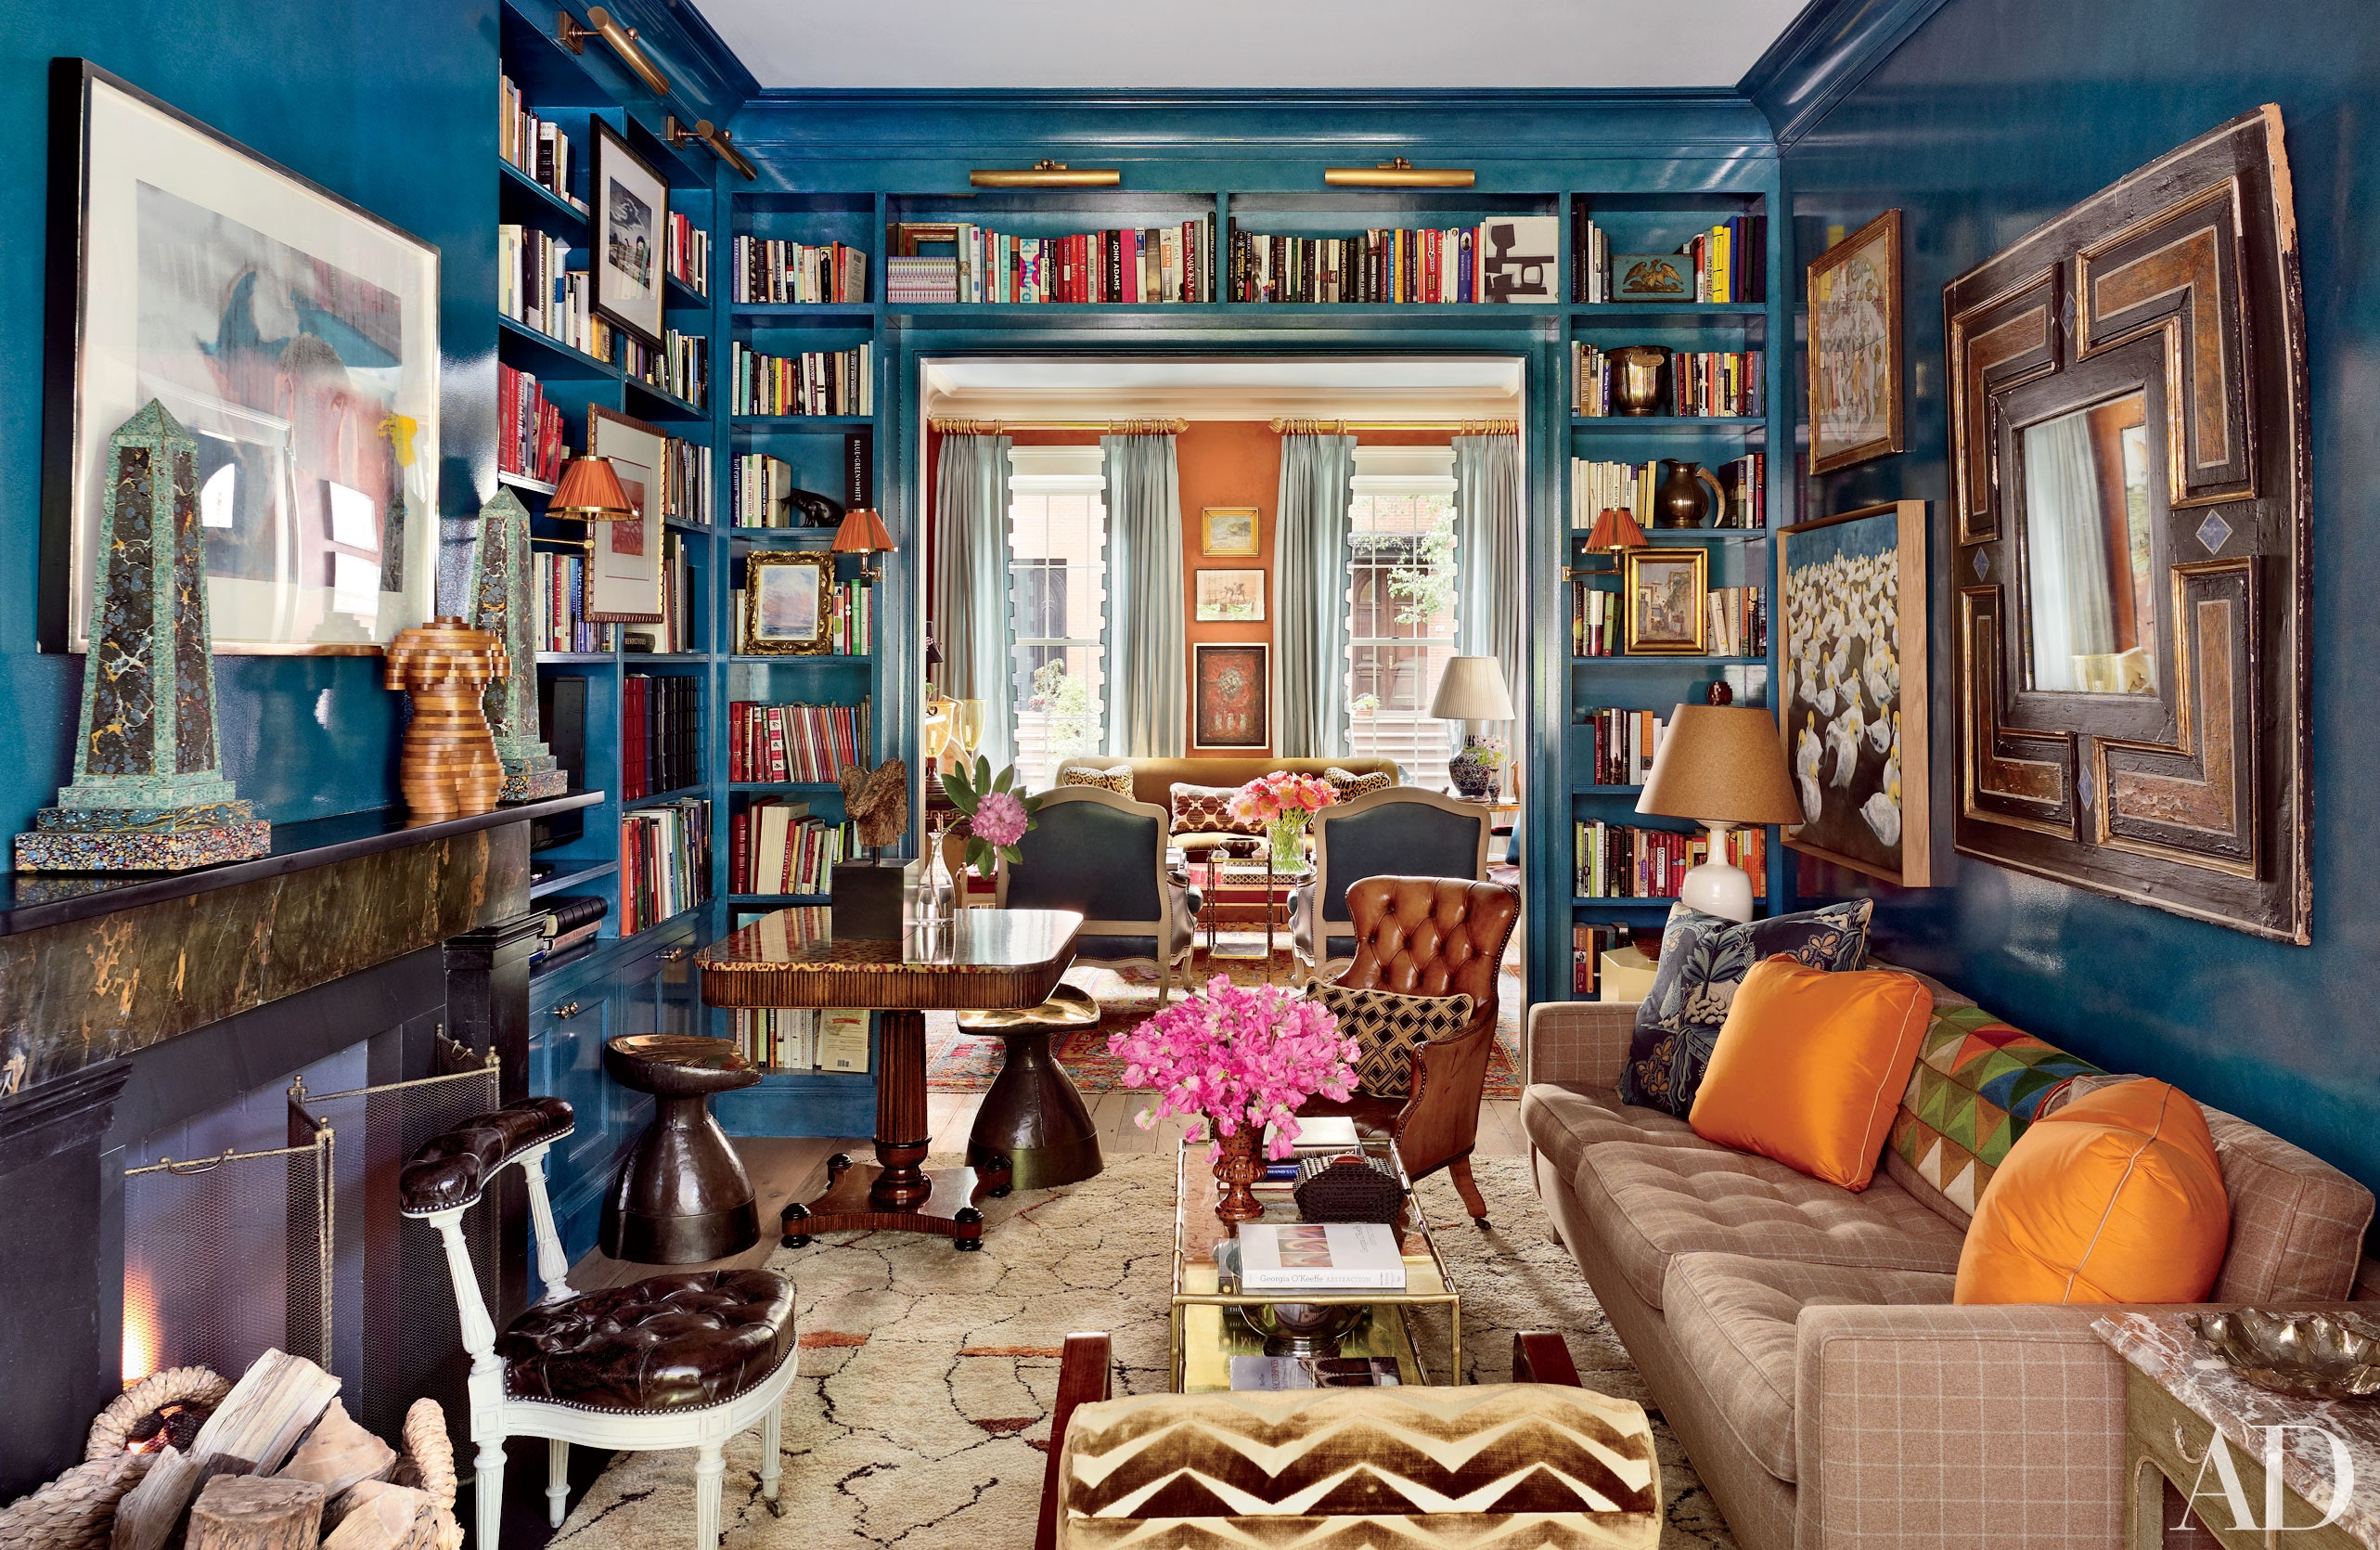coklat: (1341, 880, 1497, 1158), (706, 904, 1081, 1015), (512, 1269, 793, 1404), (611, 1036, 751, 1260), (973, 1022, 1105, 1185), (1292, 1153, 1412, 1208), (1216, 1114, 1268, 1220)
orange: (1969, 1088, 2212, 1304), (1710, 956, 1886, 1185)
putih: (1239, 1222, 1405, 1291), (1686, 821, 1749, 918), (1428, 656, 1514, 724)
